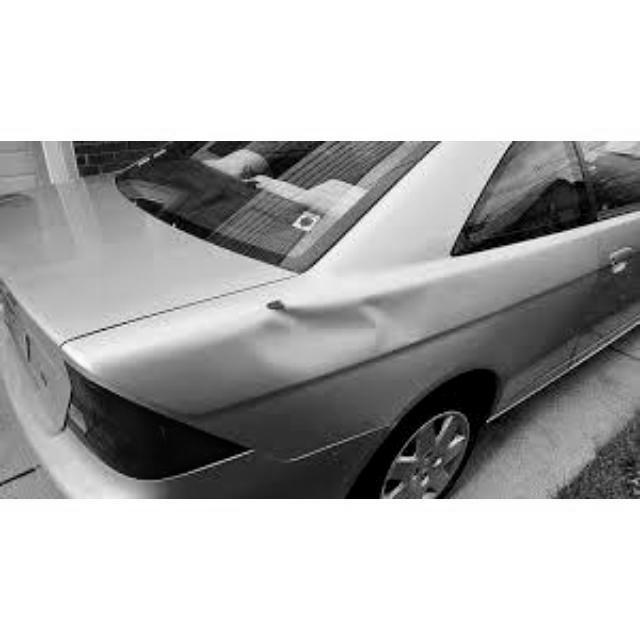quaterpanel-dent: (273, 278, 445, 431)
